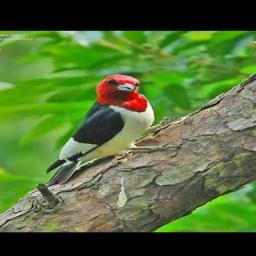Woodpecker: (38, 73, 174, 186)
